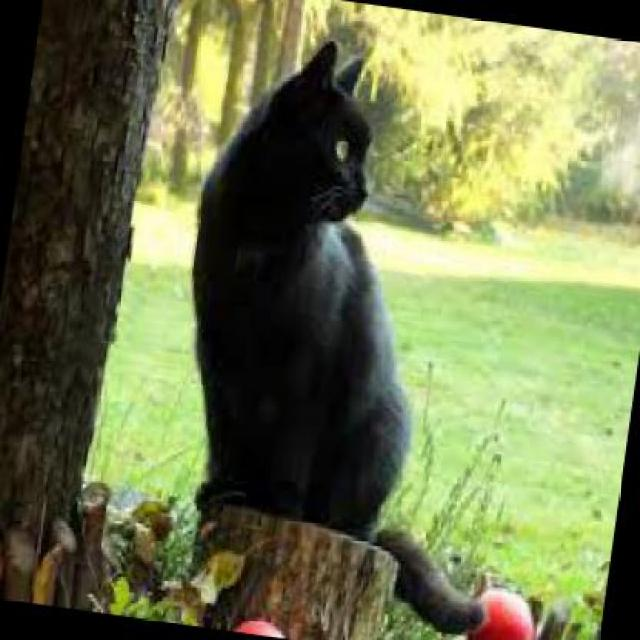animals: (153, 8, 478, 540)
